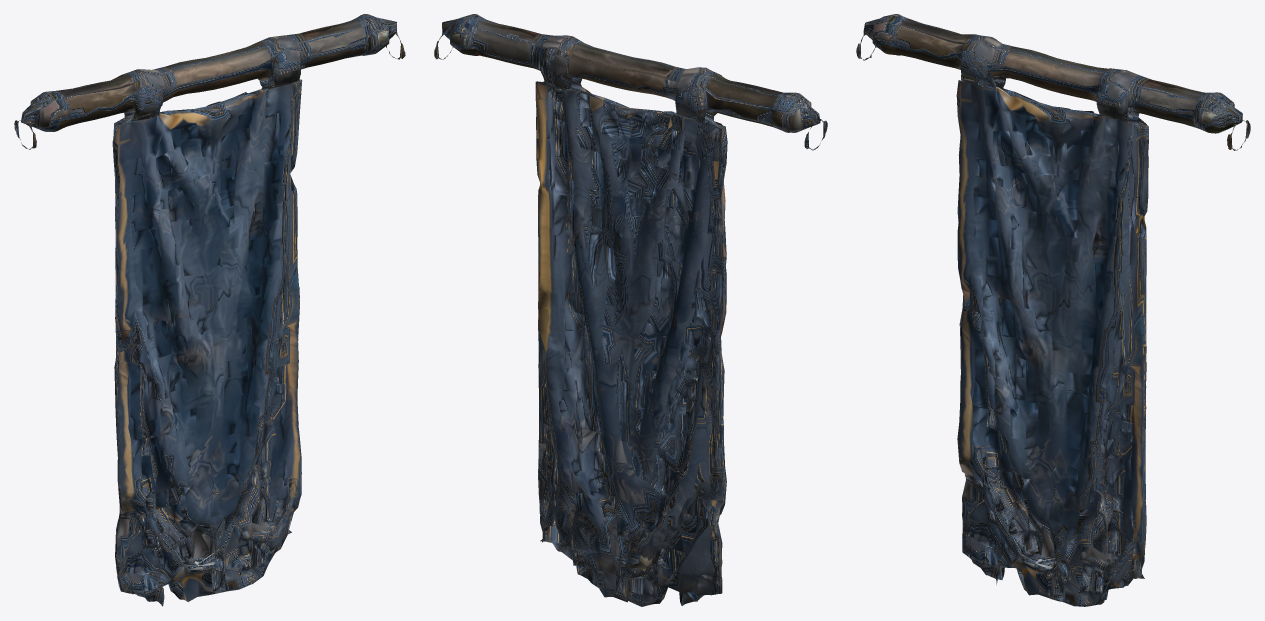
File: S1-07_banner_A.glb
3 views of the same model, side by side, from view 1: azimuth 30°, elevation 25°; view 2: azimuth 150°, elevation 25°; view 3: azimuth 330°, elevation 25° (orthographic).
Parts seen in each view (by area): view 1: geometry_0; view 2: geometry_0; view 3: geometry_0.
Part boxes in pixels (x1,y1,x2,y2): geometry_0: [14, 14, 405, 606]; geometry_0: [434, 14, 827, 606]; geometry_0: [856, 14, 1250, 606].
Bounding box in the file's own units: 2.01 × 2.77 × 0.2379.
1 material, 1 textured.
